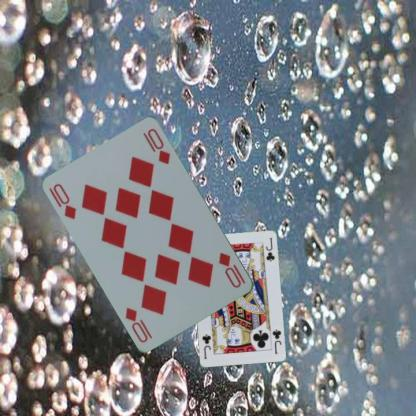10d: (46, 181, 78, 221), (216, 249, 247, 290)
Jc: (270, 326, 282, 355)
